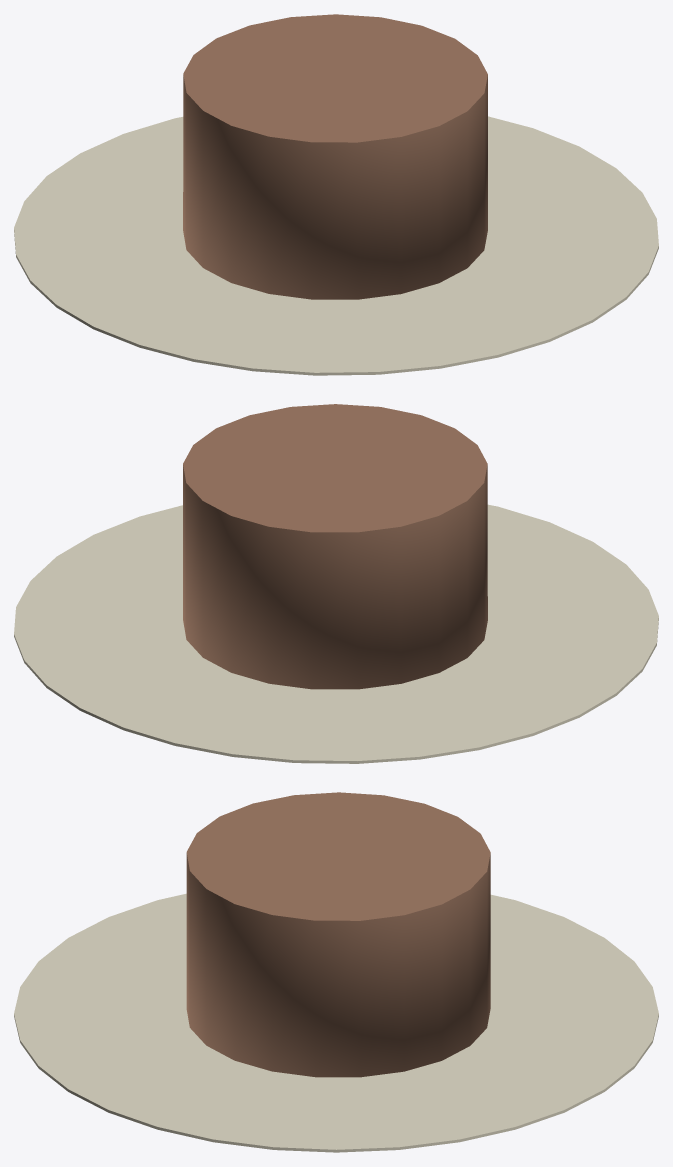
Rendered from Ciko_1.fbx.
3 renders of one model, top to bottom at view 1: azimuth 30°, elevation 25°; view 2: azimuth 150°, elevation 25°; view 3: azimuth 270°, elevation 25°, orthographic.
Visible parts, largest first — view 1: Ciko_Kek_1; view 2: Ciko_Kek_1; view 3: Ciko_Kek_1.
Part boxes in pixels (x1,y1,x2,y2): Ciko_Kek_1: (14,14,658,375); Ciko_Kek_1: (14,404,658,763); Ciko_Kek_1: (14,792,658,1152).
Size of the model in its own units: 300 by 81.91 by 300.
